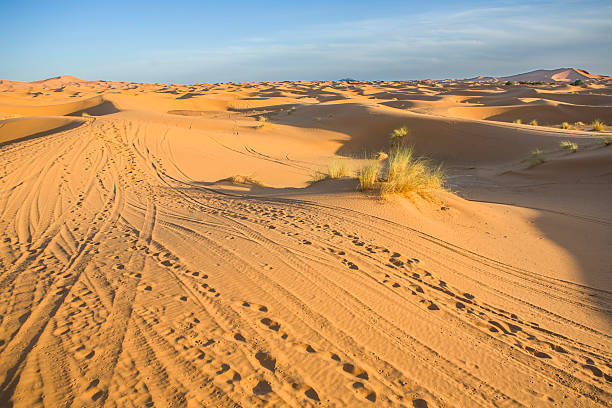animal_foot_print: (202, 195, 545, 351), (285, 336, 376, 401), (135, 228, 218, 294), (80, 379, 104, 402), (290, 382, 319, 401), (352, 381, 376, 402), (339, 362, 368, 379), (255, 351, 275, 372), (237, 301, 268, 312), (252, 379, 271, 395), (74, 345, 94, 360), (260, 317, 280, 331), (292, 342, 315, 353), (229, 331, 246, 342), (342, 258, 358, 269), (423, 299, 439, 310), (137, 282, 152, 291)
